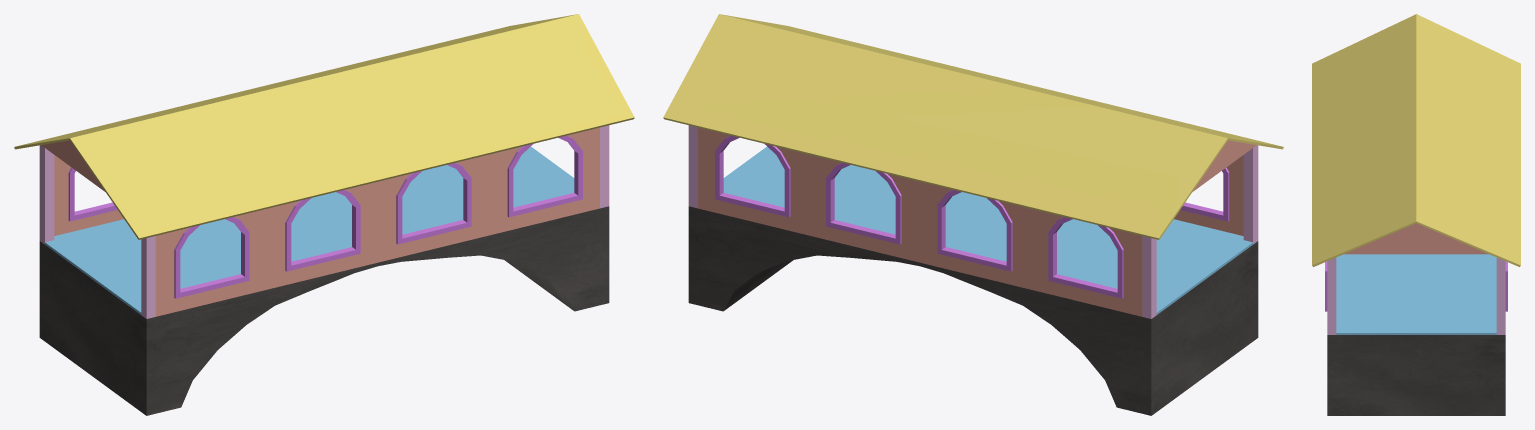
File: Bridge.fbx
3 renders of one model, left to right at view 1: azimuth 30°, elevation 25°; view 2: azimuth 150°, elevation 25°; view 3: azimuth 270°, elevation 25°, orthographic. The views are drawn at different scales.
Parts seen in each view (by area): view 1: Bridge; view 2: Bridge; view 3: Bridge.
Boxes of the visible parts, box(x1,y1,x2,y2) form: Bridge: box(14, 14, 634, 415); Bridge: box(663, 14, 1283, 415); Bridge: box(1312, 14, 1520, 415).
Size of the model in its own units: 1100 by 504 by 468.
